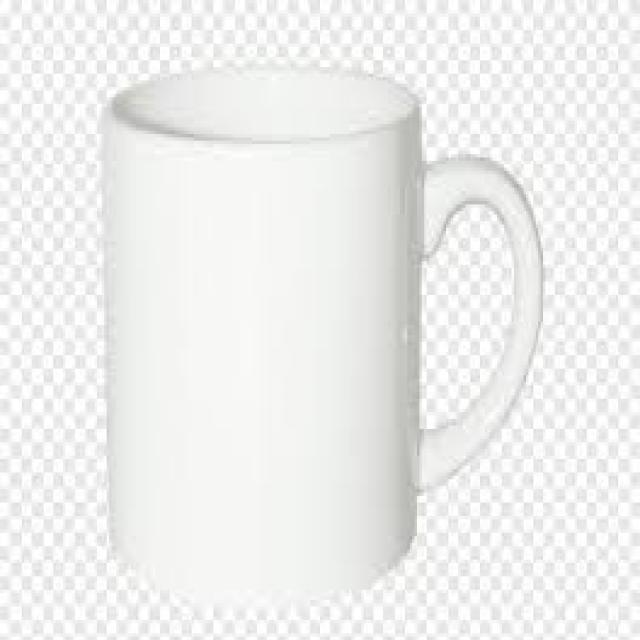taza: (95, 62, 558, 628)
